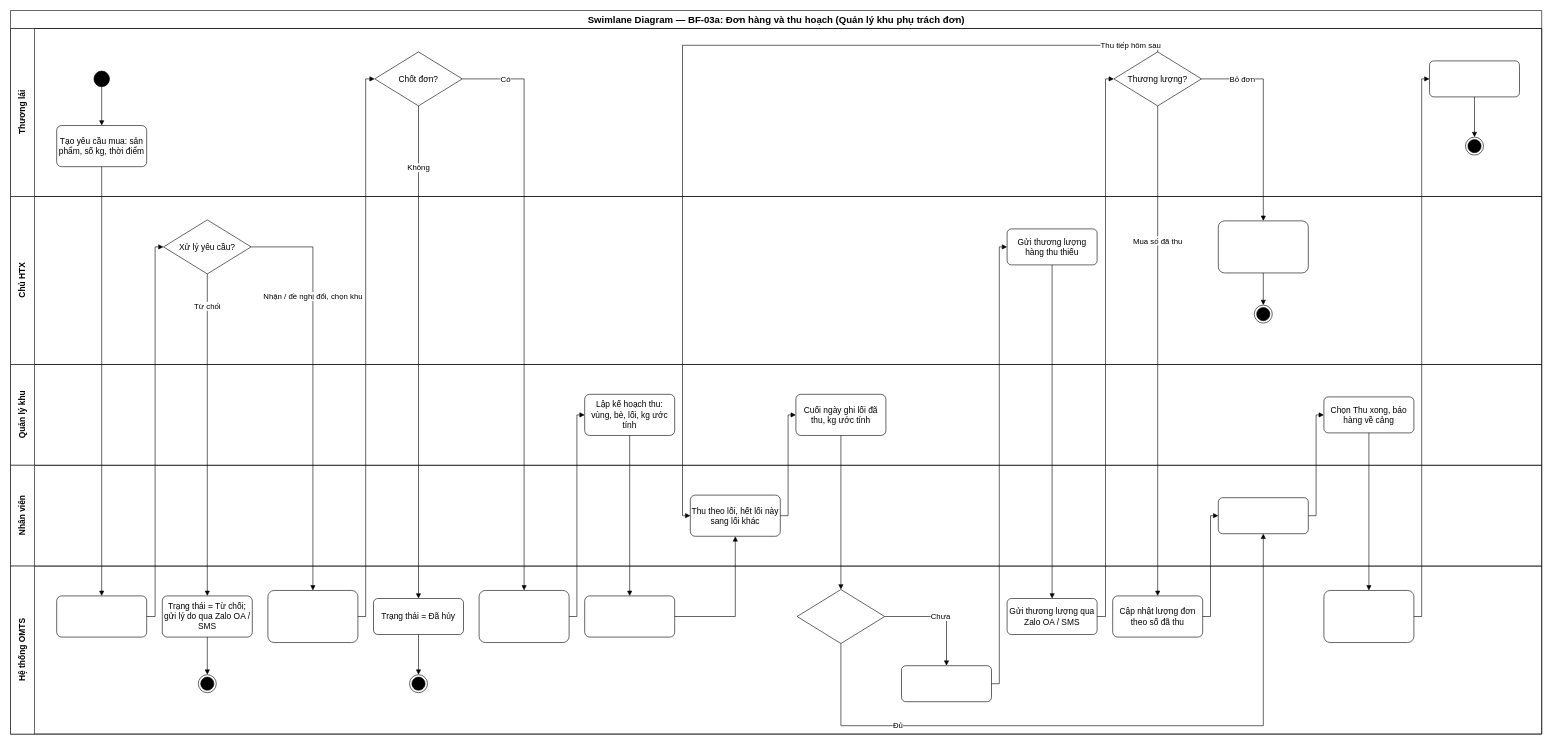
The diagram is 1552 pixels wide and 745 high, and some of its shapes have lost their labels. The shapes that lost their labels are listed below. From the top down, each one's centre as x and y in pixels, then its label:
(x=1474, y=78): Xác nhận ra cảng nhận hàng
(x=1263, y=246): Hủy đơn (Đã hủy); lô đã thu gắn đơn khác hoặc xử lý khác
(x=1263, y=515): Chở hàng về cảng
(x=101, y=616): Lưu yêu cầu; trạng thái = Chờ xét; báo Chủ HTX
(x=312, y=616): Trạng thái = Chờ khách đồng ý; gửi thông tin đơn qua Zalo OA / SMS
(x=523, y=616): Trạng thái = Đã xác nhận; báo quản lý khu phụ trách
(x=629, y=616): Lưu kế hoạch; trạng thái = Đang thu hoạch
(x=840, y=616): Đủ cho đơn?
(x=1368, y=616): Trạng thái = Đã thu; báo Chủ HTX, thương lái qua Zalo OA / SMS
(x=946, y=683): Báo Chủ HTX hàng thu thiếu
